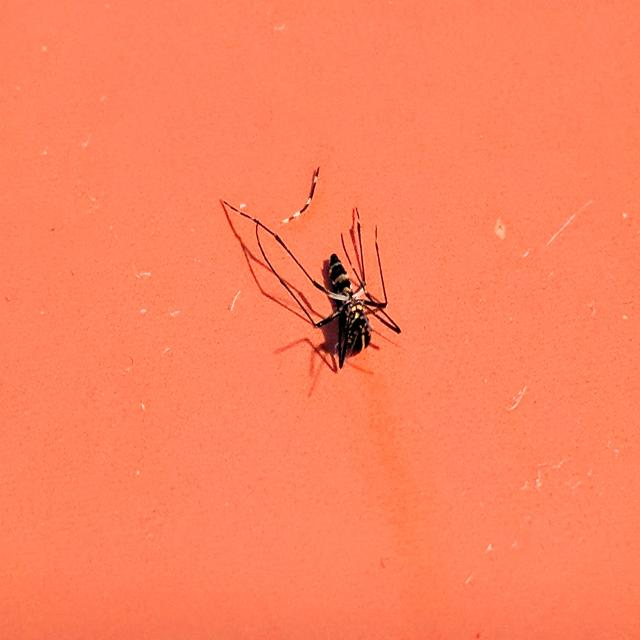albopictus: (222, 164, 405, 381)
